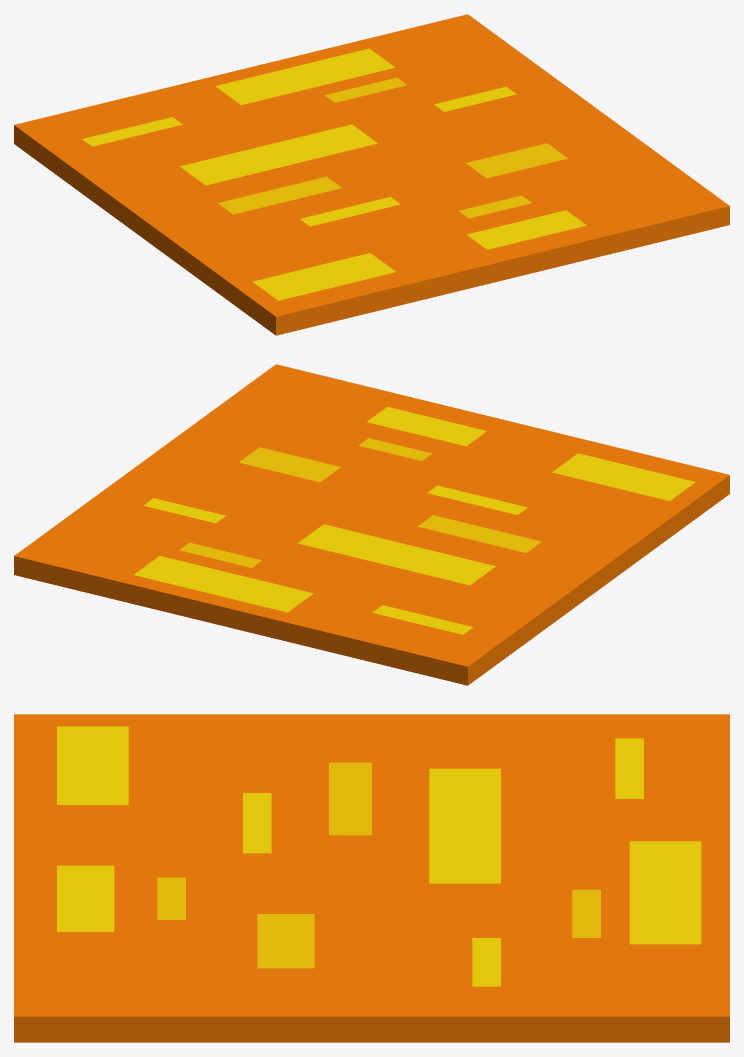
File: Ground.obj
3 renders of one model, top to bottom at view 1: azimuth 30°, elevation 25°; view 2: azimuth 150°, elevation 25°; view 3: azimuth 270°, elevation 25°, orthographic. The views are drawn at different scales.
Bounding box in the file's own units: 5 × 0.2 × 5.
1 material, 1 textured.
